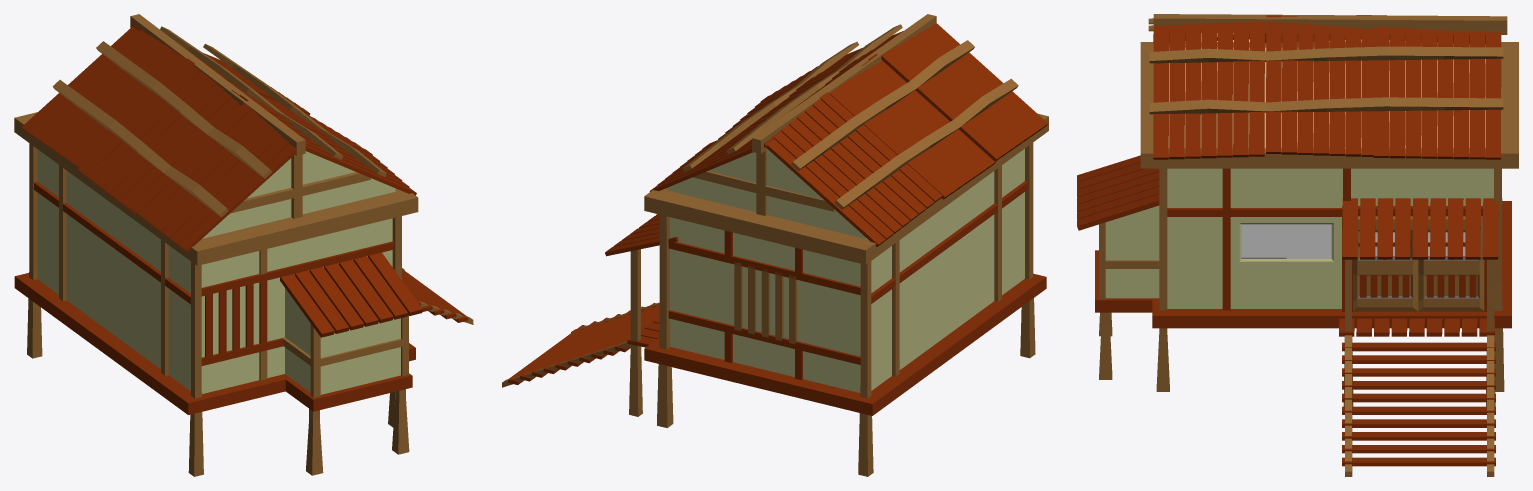
The model's file is House.fbx.
3 views of the same model, side by side, from view 1: azimuth 30°, elevation 25°; view 2: azimuth 150°, elevation 25°; view 3: azimuth 270°, elevation 25° (orthographic). The views are drawn at different scales.
Parts seen in each view (by area): view 1: 立方體.031; view 2: 立方體.031; view 3: 立方體.031.
Boxes of the visible parts, x1,y1,x2,y2 form: 立方體.031: [14, 14, 473, 476]; 立方體.031: [502, 14, 1048, 476]; 立方體.031: [1077, 14, 1518, 476].
Bounding box in the file's own units: 29730 × 23532 × 28720.
